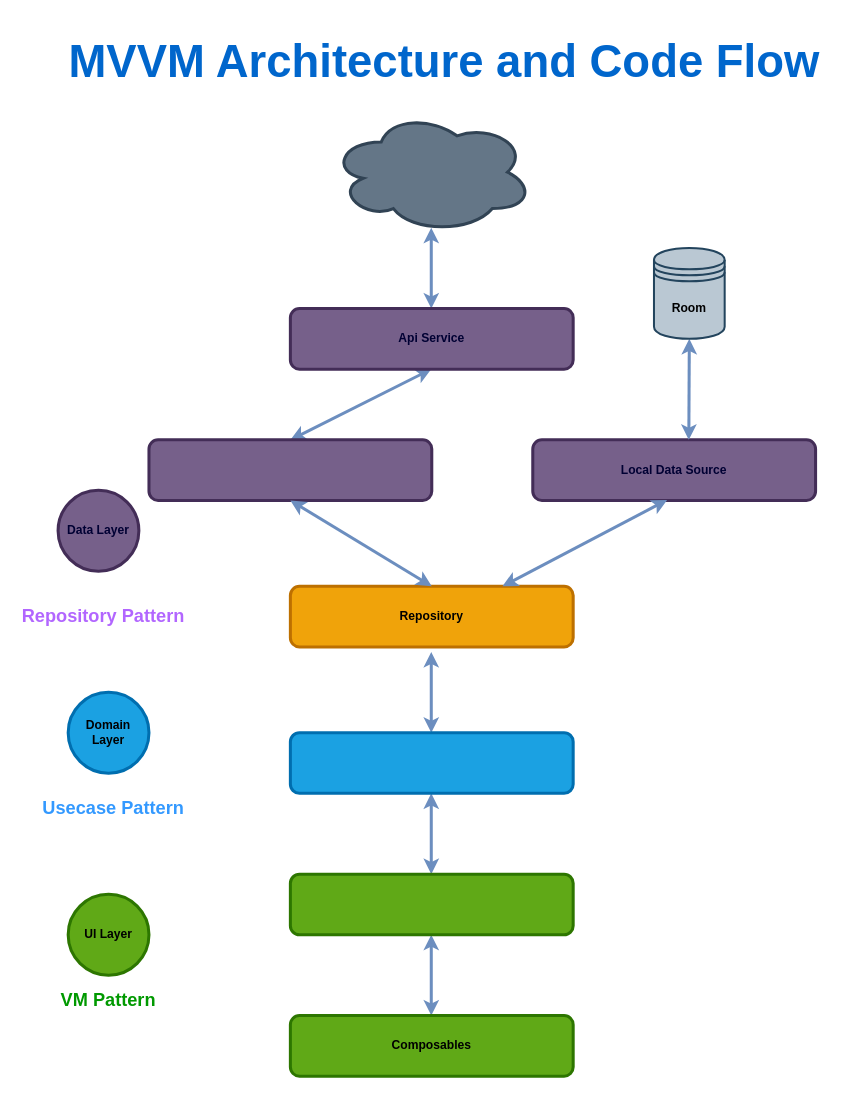
This 847x1095 diagram has some shape labels left out. Each missing label, with the centre of its shape:
"Api Data Source" belongs at point 290,469.
"Back End Services" belongs at point 431,172.
"Usecase" belongs at point 431,762.
"ViewModel" belongs at point 431,904.
